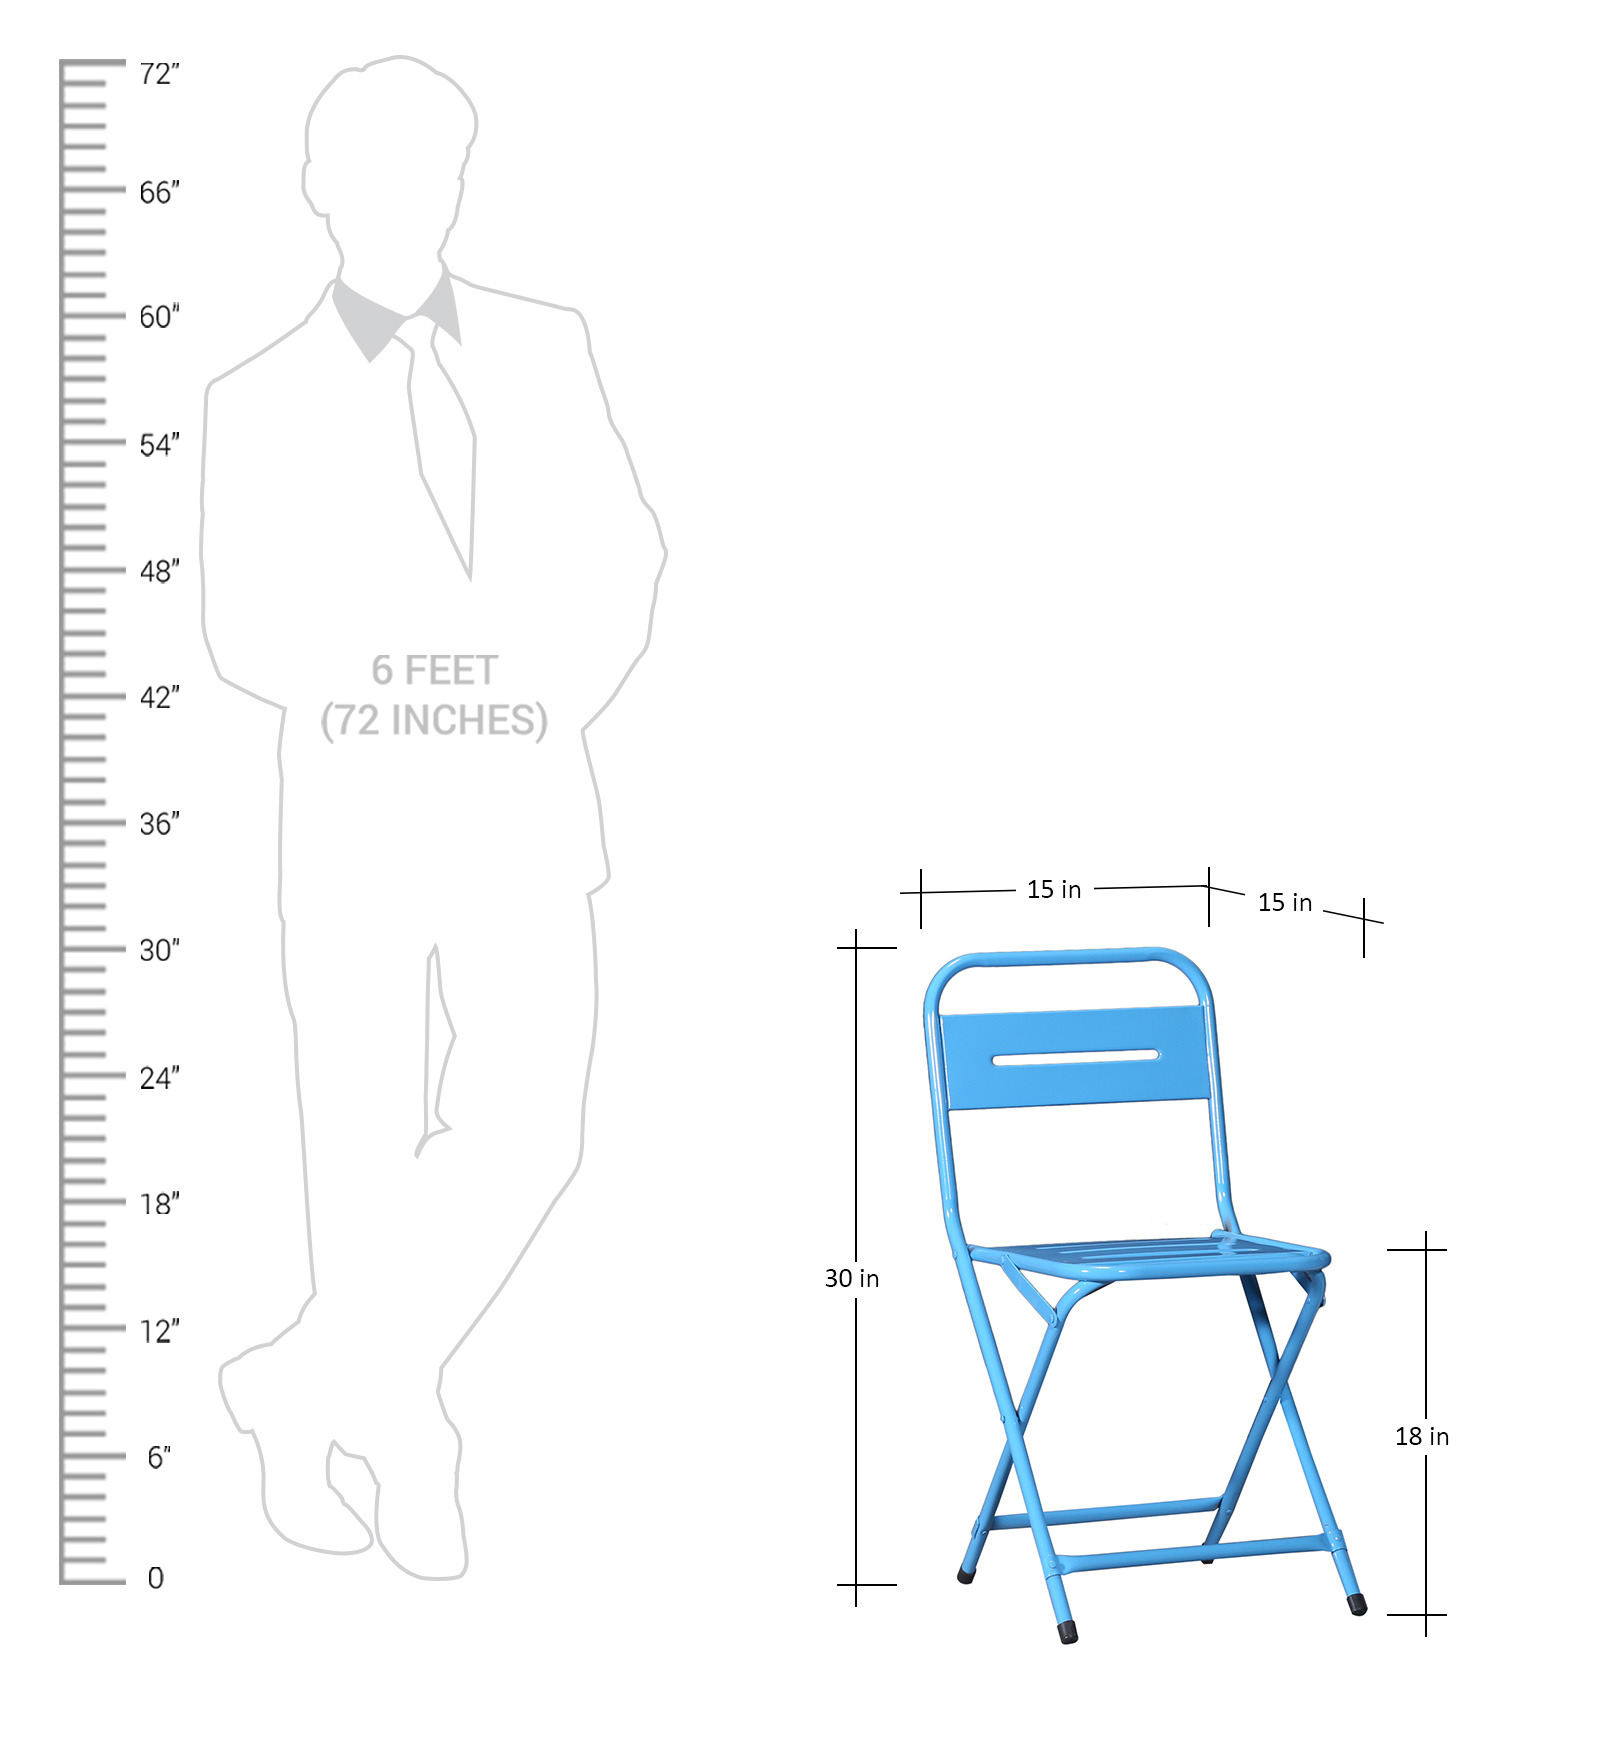Marandoo Grunge Blue Outdoor Folding Chair by Bohemiana: (906, 943, 1382, 1640)
